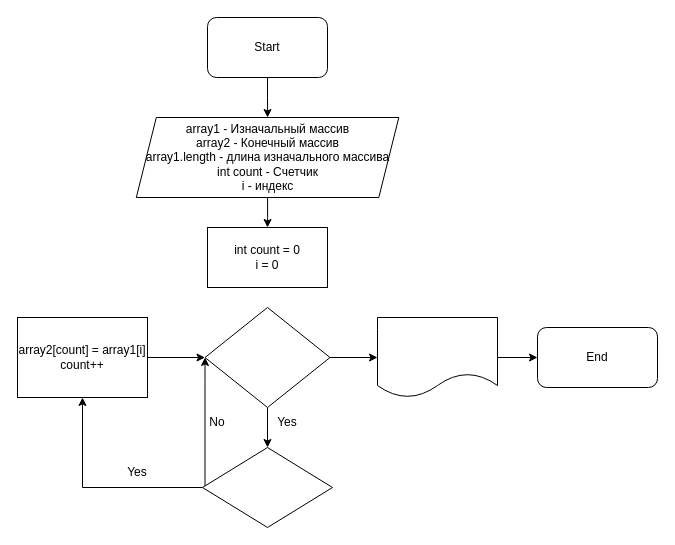
Image size: 675x545. Some labels were removed from this diagram. The centre of each missing label's shape, as x and y in pixels:
"array1[i].lenght <= 3" goes at pixel 267 487.
"i < array1.lenght i++" goes at pixel 267 357.
"Print (array2)" goes at pixel 437 357.
